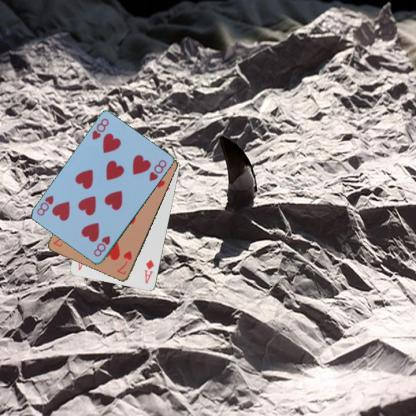7h: (115, 249, 134, 276)
8h: (90, 234, 112, 258), (90, 116, 110, 141)
Ad: (142, 257, 156, 285)
